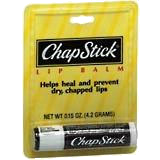grozi_33: (22, 0, 138, 160)
